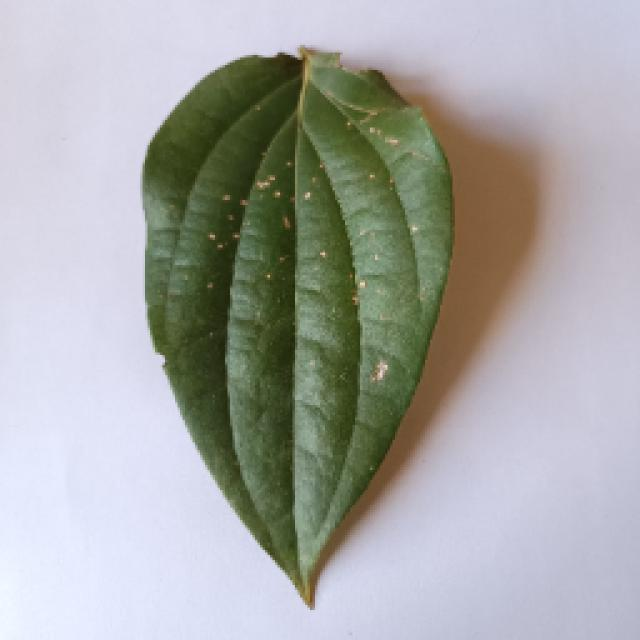pollu-disease: (138, 47, 450, 605)
